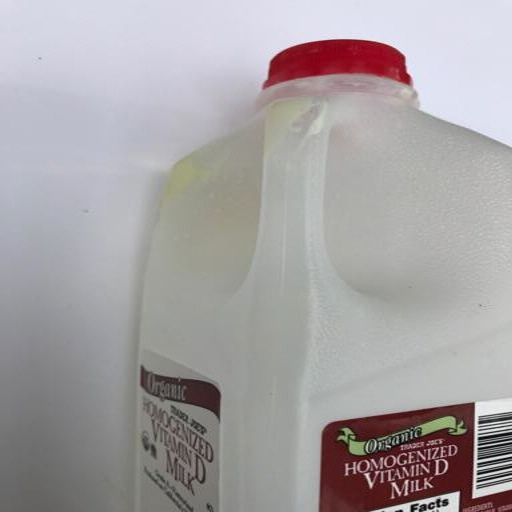Plastic_1: (135, 40, 510, 512)
